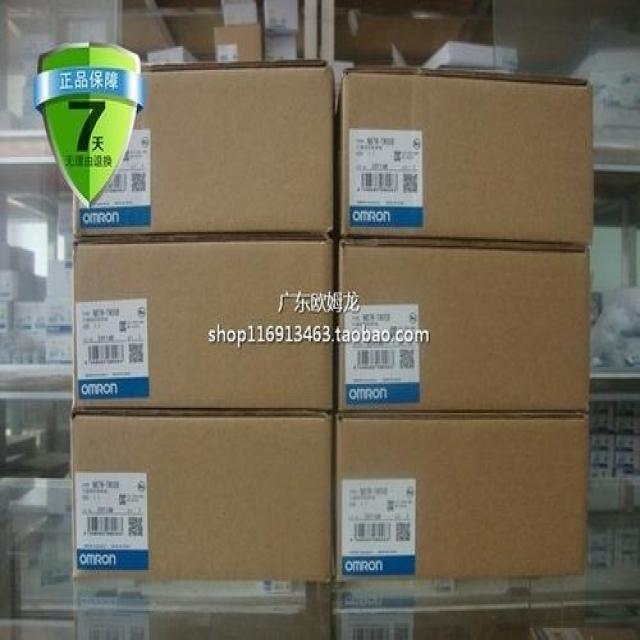box: (68, 230, 334, 411), (73, 58, 335, 236), (333, 68, 593, 247), (69, 410, 333, 582), (338, 234, 591, 413), (334, 410, 590, 580), (214, 26, 261, 60), (264, 0, 300, 36), (262, 36, 298, 60)
